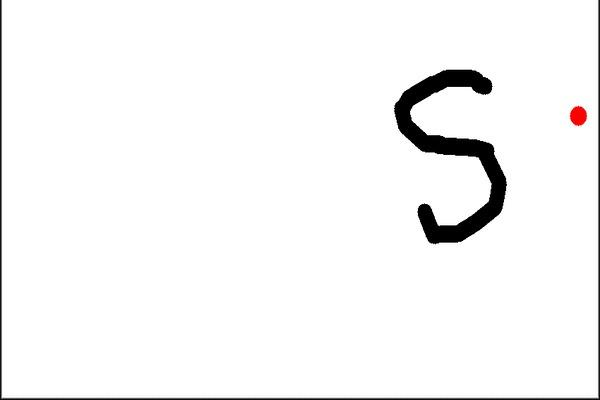S: (388, 64, 512, 245)
